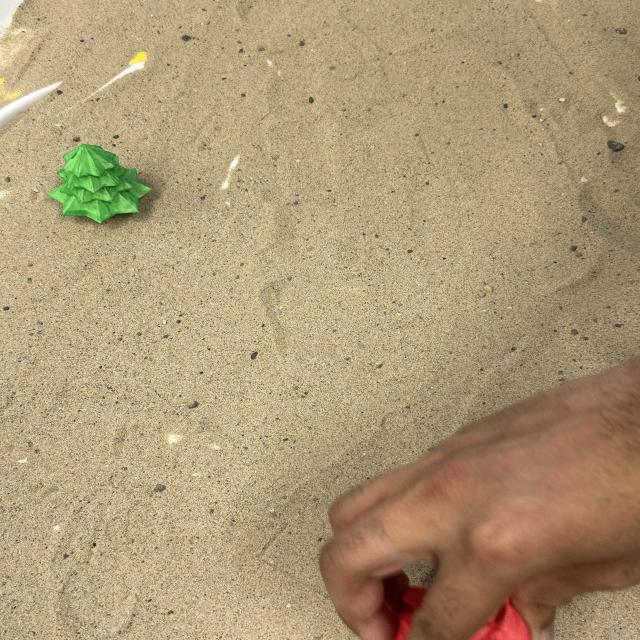fire: (382, 573, 533, 639)
tree: (46, 143, 152, 224)
